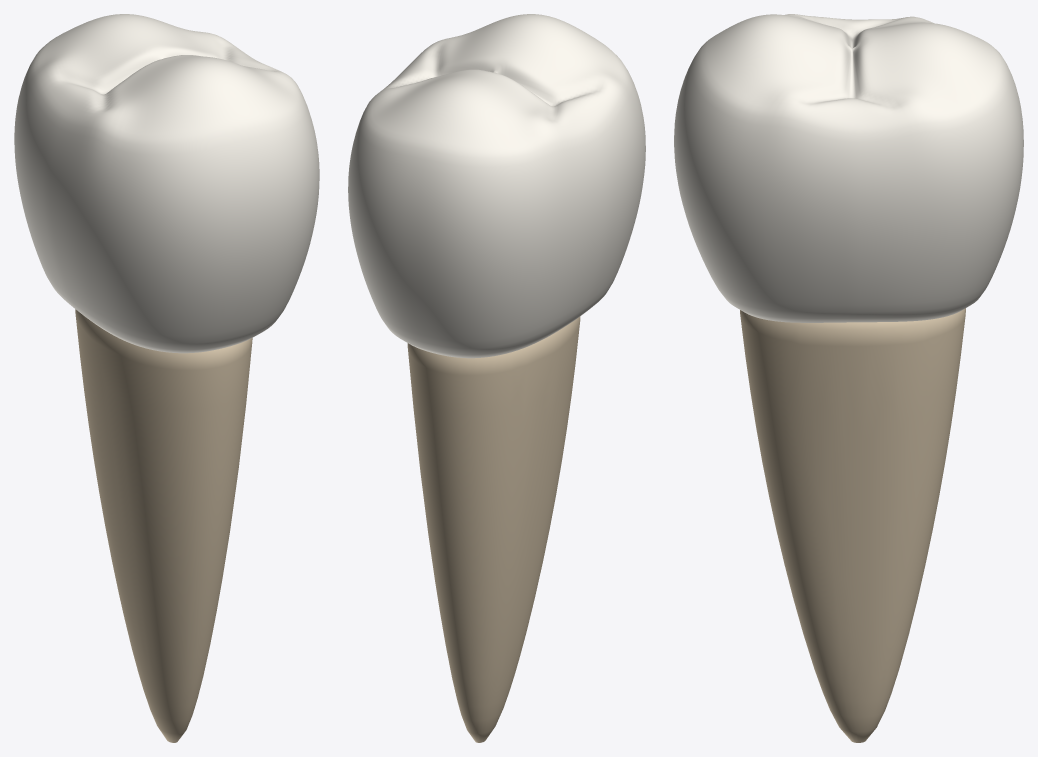
Rendered from premolar_sup.glb.
3 views of the same model, side by side, from view 1: azimuth 30°, elevation 25°; view 2: azimuth 150°, elevation 25°; view 3: azimuth 270°, elevation 25° (orthographic). The views are drawn at different scales.
Parts seen in each view (by area): view 1: Corona, Raices; view 2: Corona, Raices; view 3: Corona, Raices.
Boxes of the visible parts, box(x1,y1,x2,y2) form: Corona: box(14, 14, 319, 353); Raices: box(75, 309, 252, 742); Corona: box(348, 14, 645, 358); Raices: box(407, 316, 580, 742); Corona: box(674, 14, 1023, 322); Raices: box(740, 308, 965, 742).
Bounding box in the file's own units: 0.00737 × 0.0213 × 0.00943.
